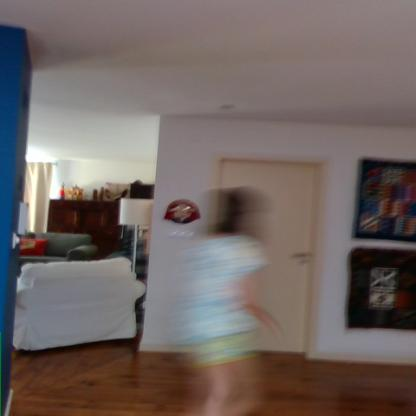closed: (201, 146, 336, 358)
